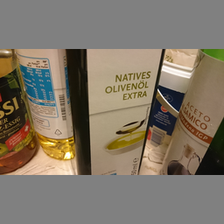oil: (66, 49, 166, 175), (15, 50, 74, 159)
